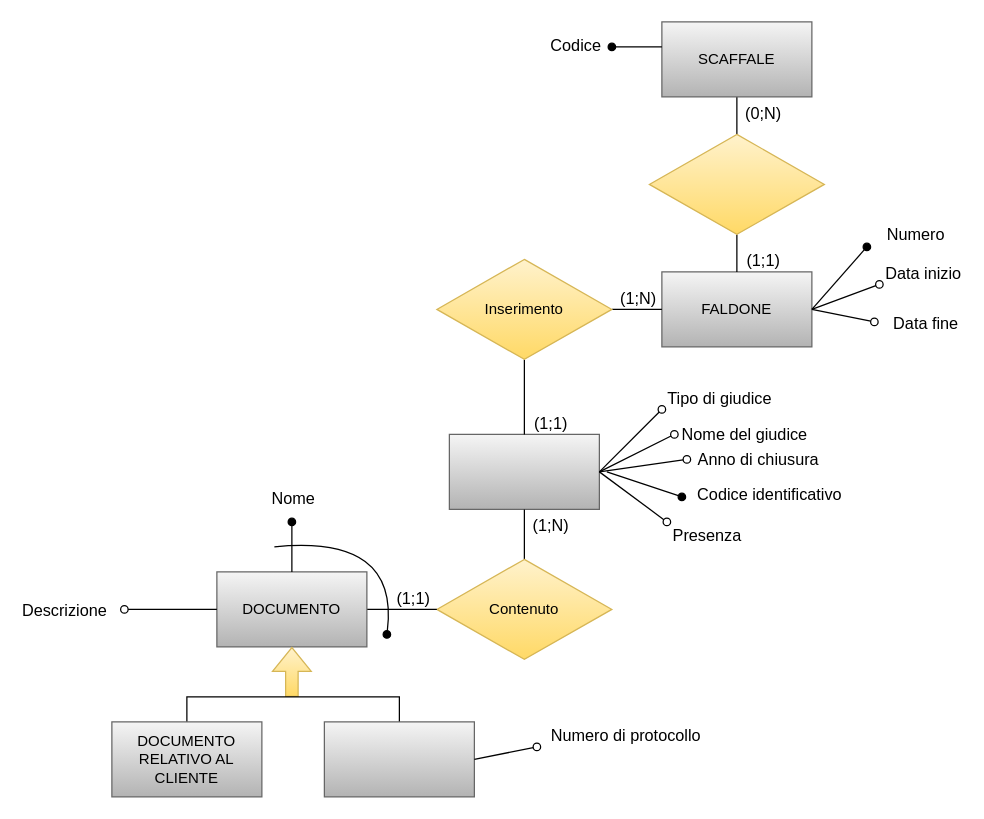
Image size: 984x819. Some labels were removed from this diagram. The shapes that lost their labels are listed below. From the top down, each one's centre as x and y in pixels, then its label:
At pixel 736 183: "Posizione".
At pixel 523 471: "FASCICOLO".
At pixel 398 759: "DOCUMENTO RELATIVO AL PROCESSO".
